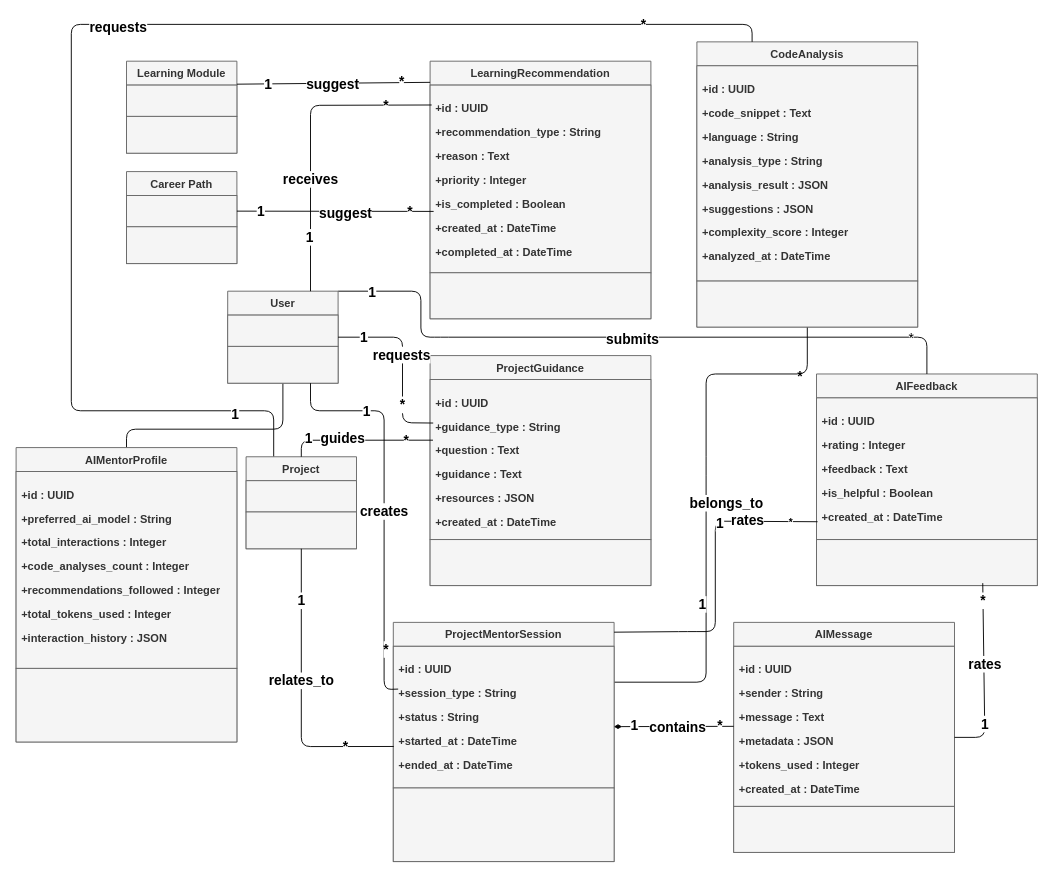
Image size: 1053x880. Some labels were removed from this diagram. The shapes that lost their labels are listed below. From the top down, each one's centre as x and y in pixels, then its label:
At (x=540, y=295): "+markComplete()".
At (x=807, y=303): "+analyze()".
At (x=540, y=562): "+provideGuidance()".
At (x=926, y=562): "+submitFeedback()".
At (x=126, y=704): "+switchModel() +updateStats()".
At (x=503, y=824): "+sendMessage() +endSession()".
At (x=843, y=828): "+generateResponse()".
